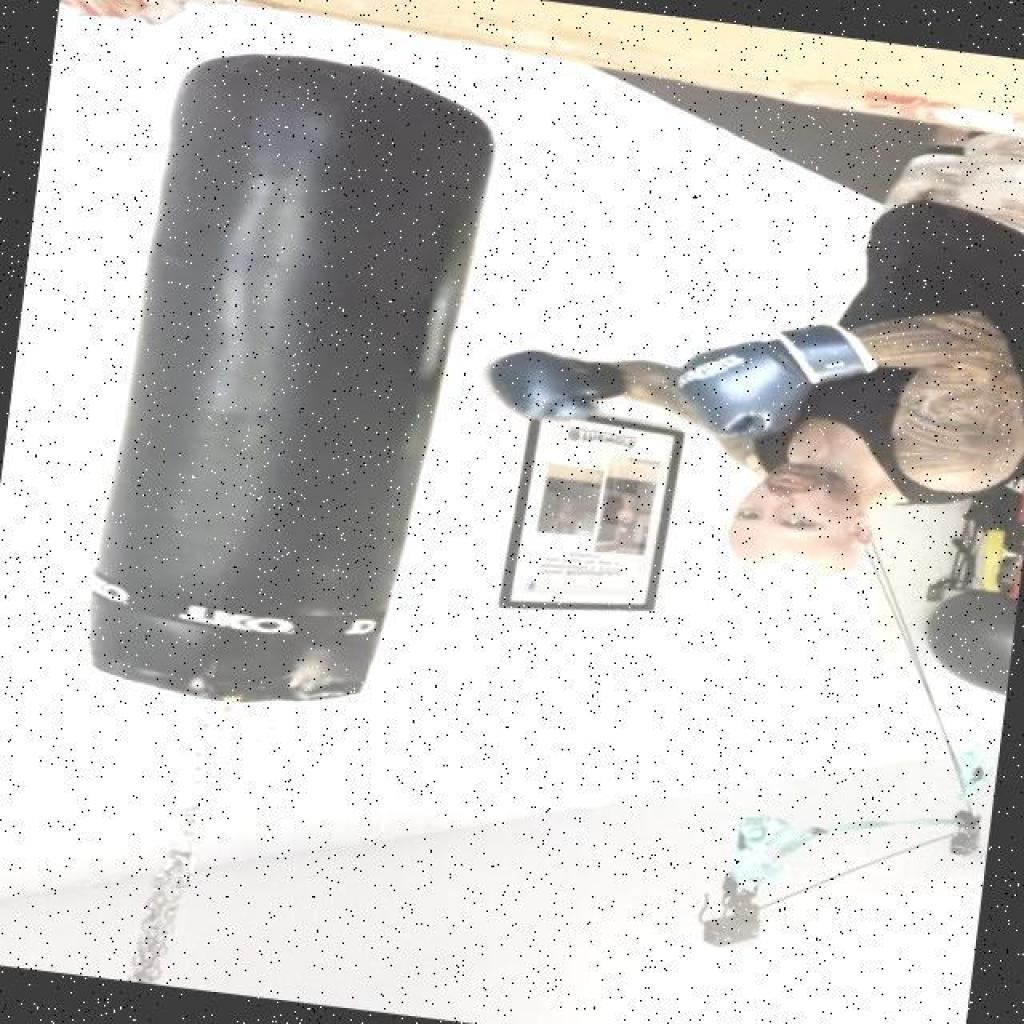bag: (48, 42, 541, 723)
hook: (429, 256, 1024, 616)
